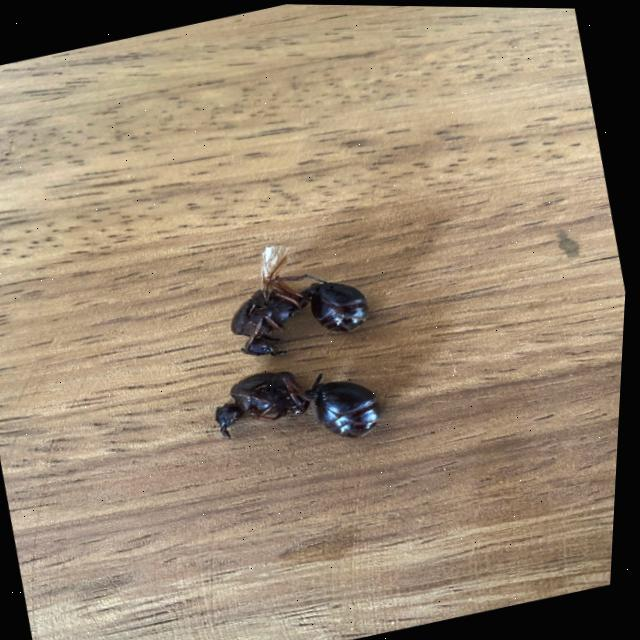Dead-Female-Alate: (216, 222, 382, 365)
Dead-Female-Dealate: (210, 346, 392, 467)
